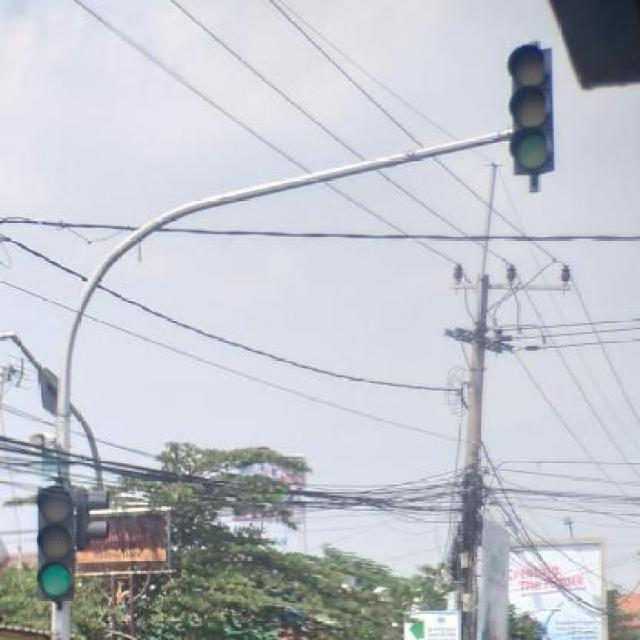traffic light: (508, 49, 556, 172), (36, 485, 85, 600)
